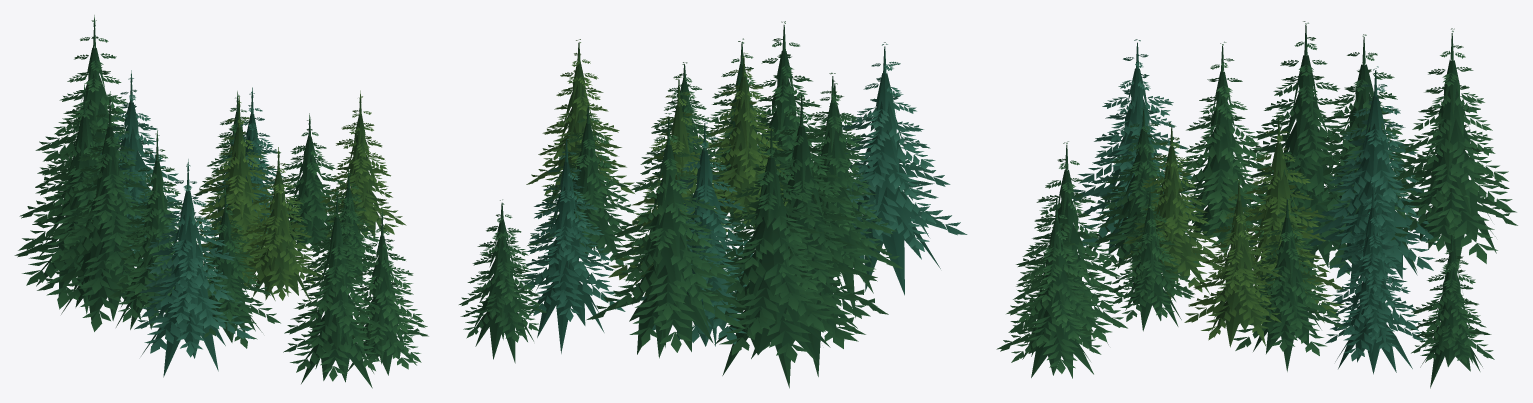
The picture shows the model from 3 angles, left to right: view 1: azimuth 30°, elevation 25°; view 2: azimuth 150°, elevation 25°; view 3: azimuth 270°, elevation 25°; orthographic projection. The views are drawn at different scales.
Visible parts, largest first — view 1: pn_16; view 2: pn_16; view 3: pn_16.
Part boxes in pixels (box(x1,y1,x2,y2)): pn_16: box(14, 15, 428, 388); pn_16: box(459, 21, 967, 388); pn_16: box(996, 21, 1517, 388).
Size of the model in its own units: 23.89 by 18.36 by 29.73.
1 material, 1 textured.
